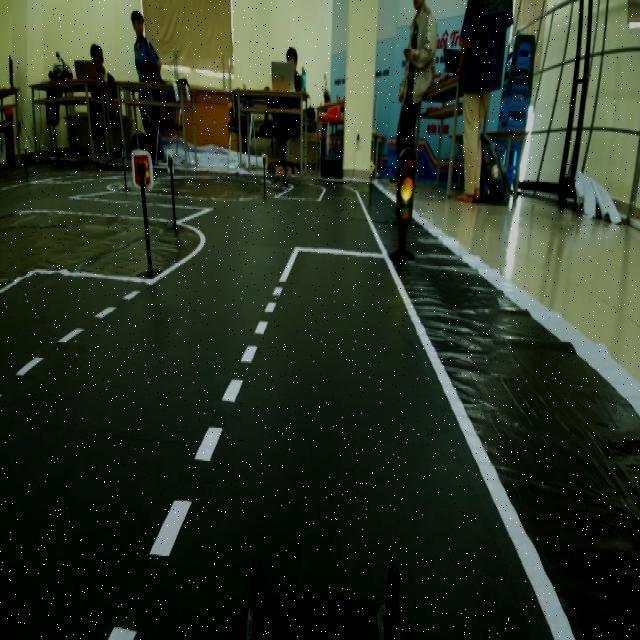trafficlight: (382, 135, 422, 278)
